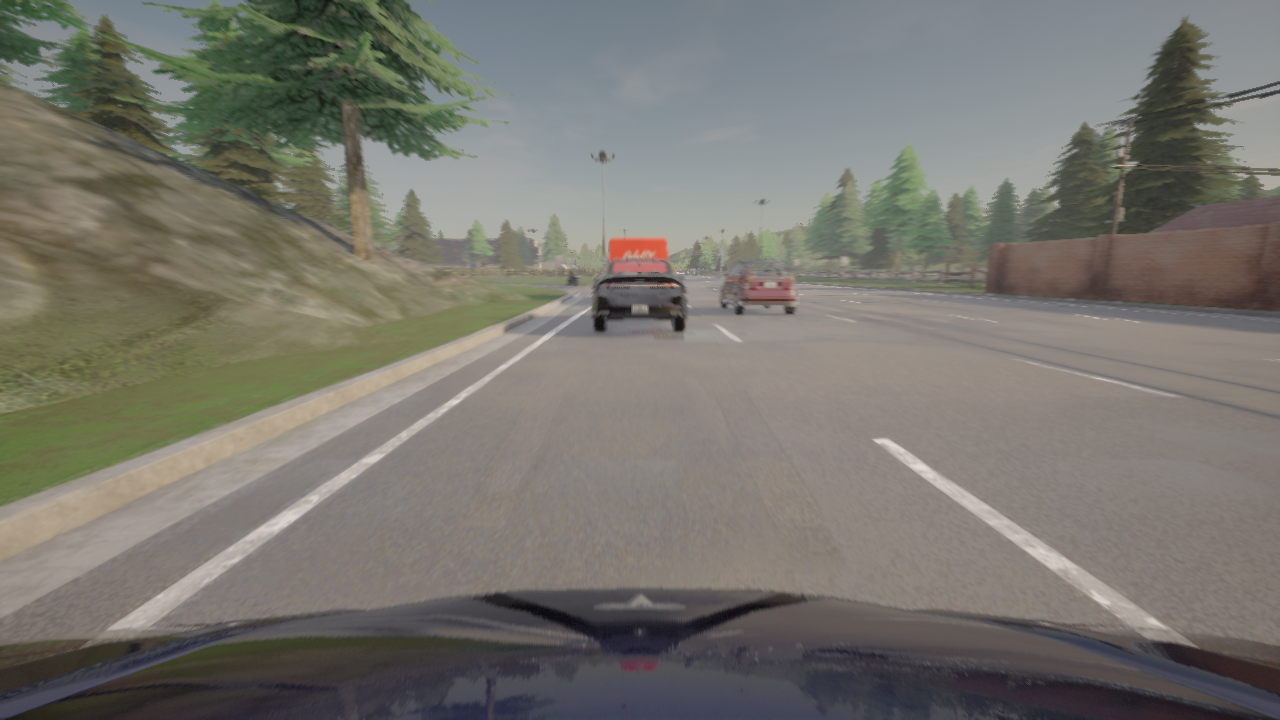cyclist: (0, 588, 1279, 719), (592, 258, 686, 331), (719, 260, 797, 314), (603, 238, 667, 265), (594, 267, 605, 288), (567, 272, 579, 286)
